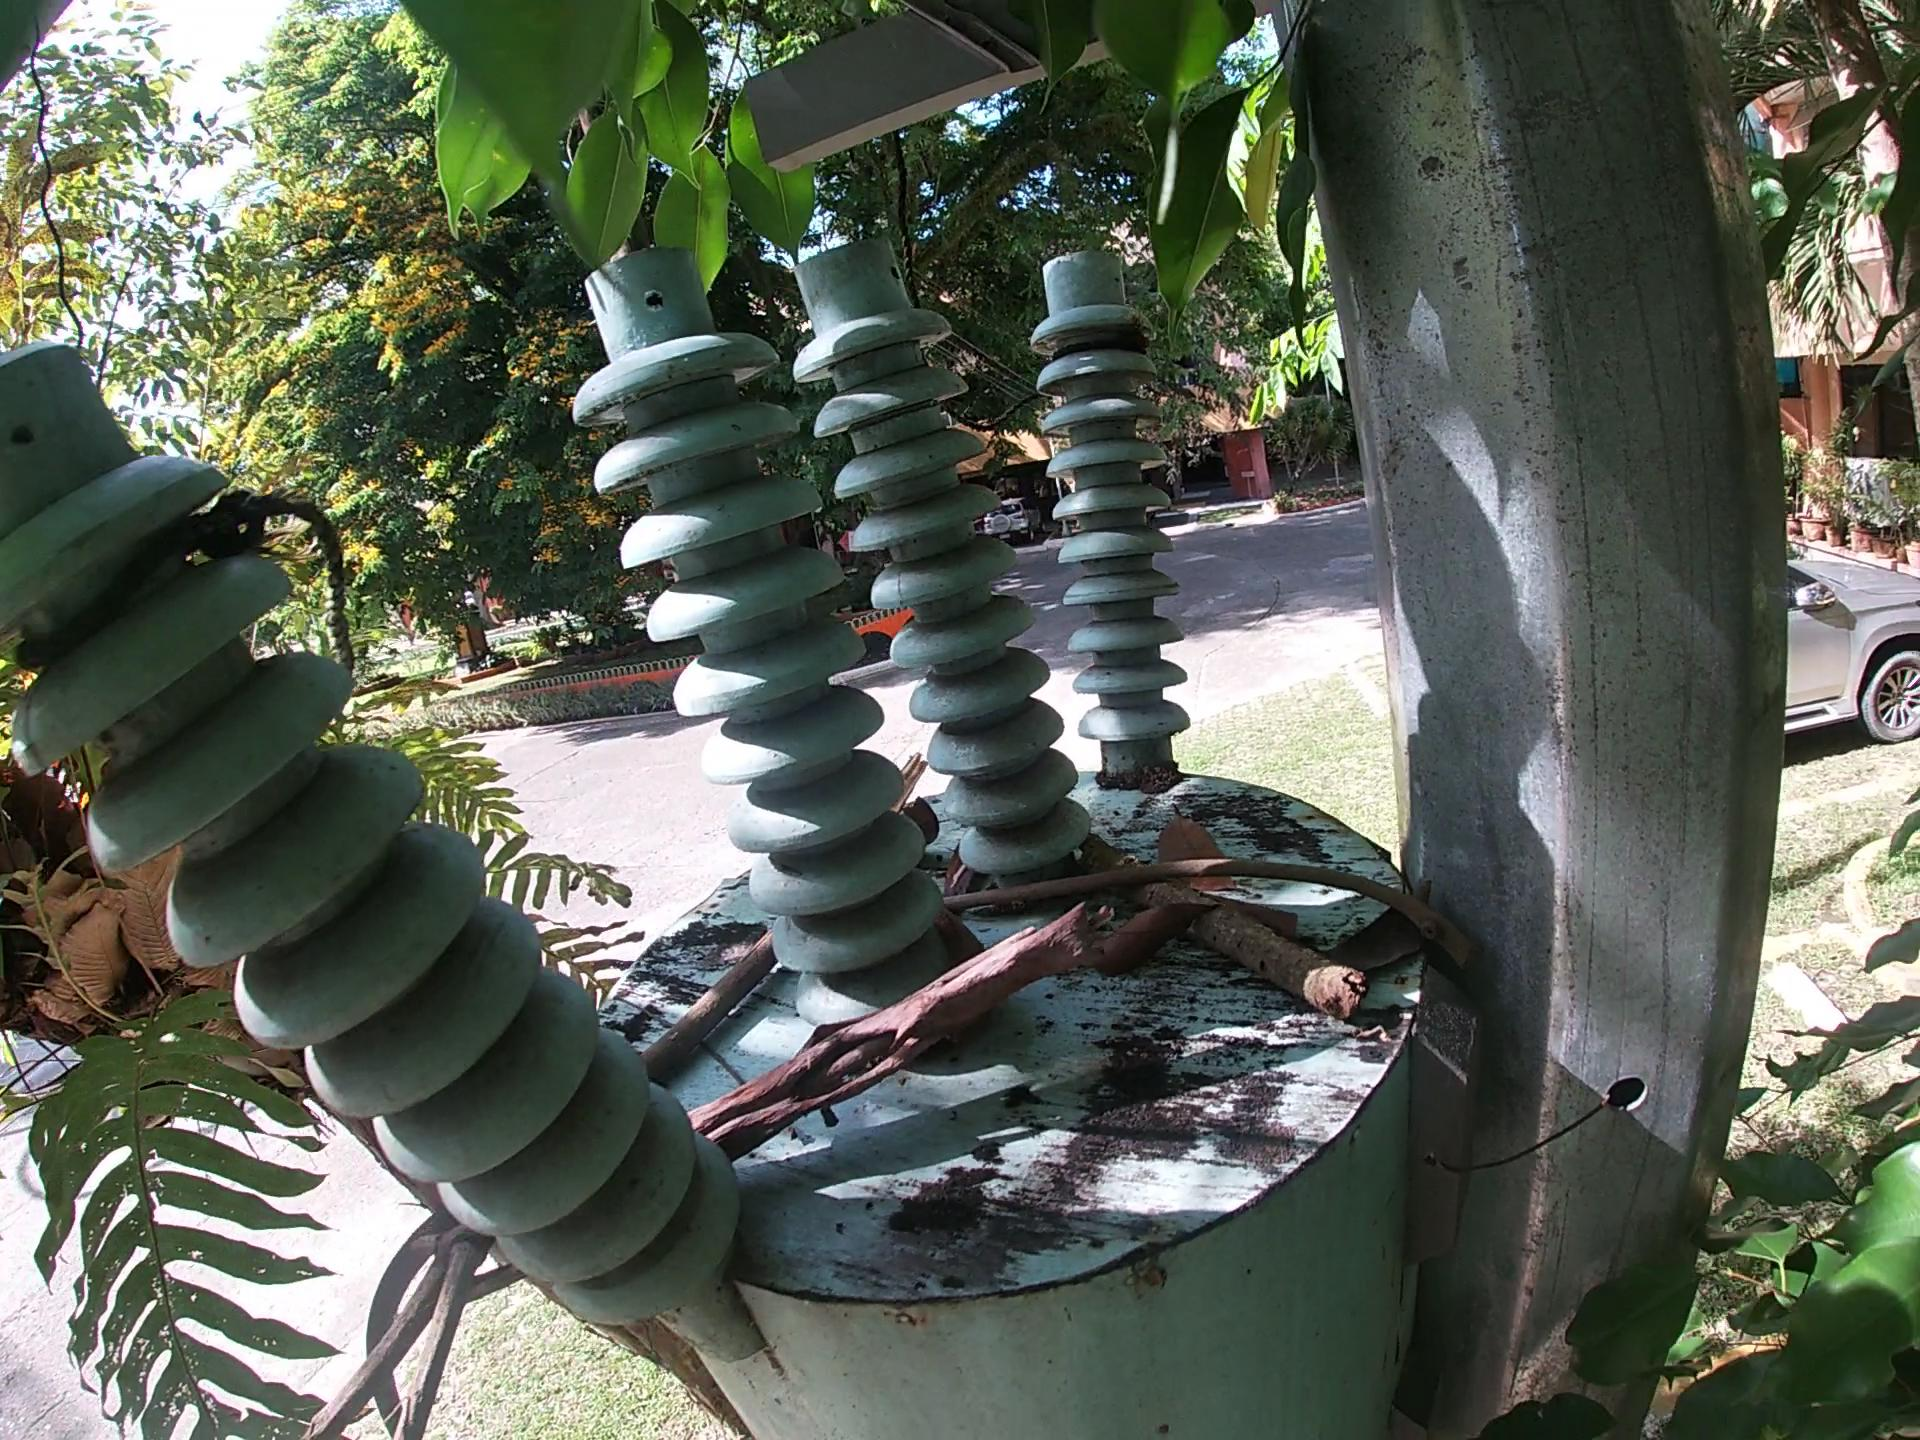leaf: (1326, 876, 1445, 979), (1092, 895, 1228, 985), (1150, 799, 1243, 892)
mahogany fruit: (925, 902, 1008, 1068), (901, 796, 943, 861)
tree branch: (677, 898, 1120, 1162), (931, 850, 1492, 976), (1079, 830, 1373, 1026), (292, 1218, 497, 1438), (638, 918, 783, 1095)
